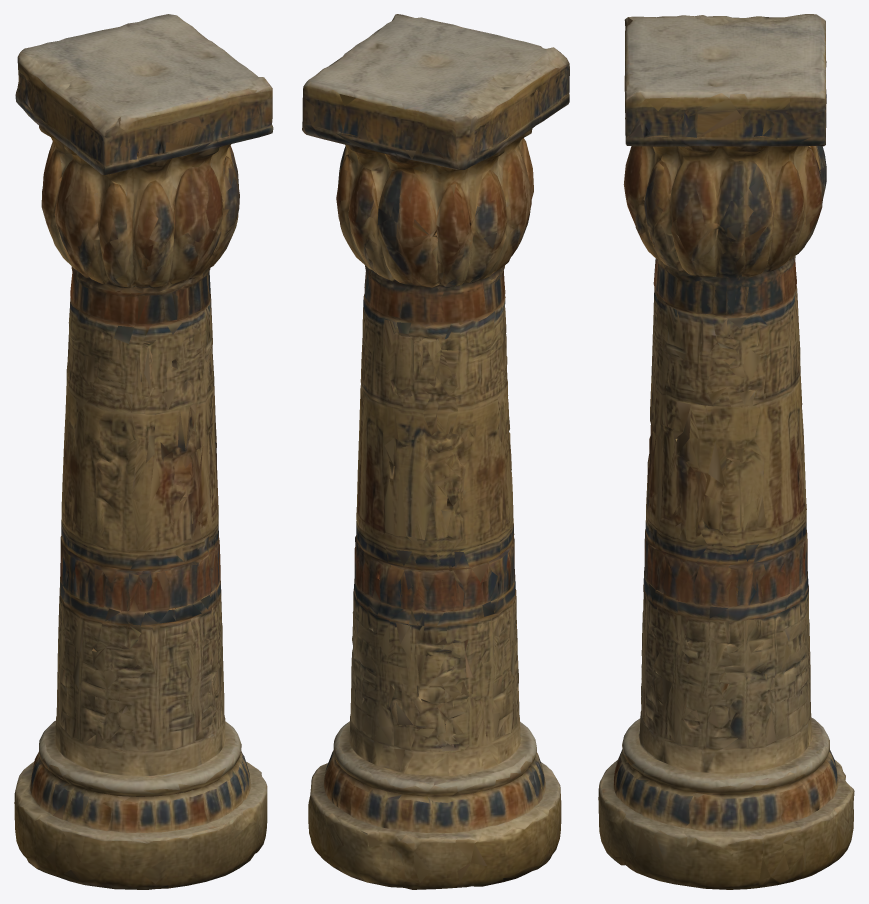
The model's file is pillar_lotus.glb.
3 views of the same model, side by side, from view 1: azimuth 30°, elevation 25°; view 2: azimuth 150°, elevation 25°; view 3: azimuth 270°, elevation 25° (orthographic).
Visible parts, largest first — view 1: prop; view 2: prop; view 3: prop.
Boxes of the visible parts, left/top/right/bottom form: prop: left=14, top=14, right=273, bottom=889; prop: left=302, top=14, right=569, bottom=889; prop: left=598, top=14, right=854, bottom=889.
Size of the model in its own units: 1.49 by 5 by 1.47.
Materials: 1 (1 with a texture image).
